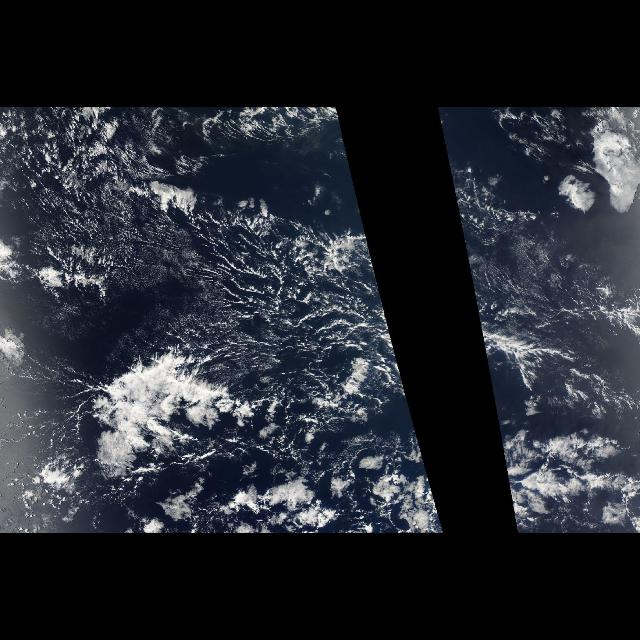Gravel: (206, 224, 398, 358)
Sugar: (126, 210, 380, 360)
